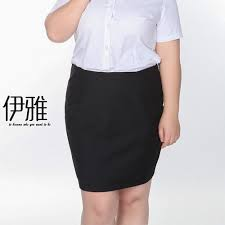F_tailored skirt: (59, 58, 170, 198)
